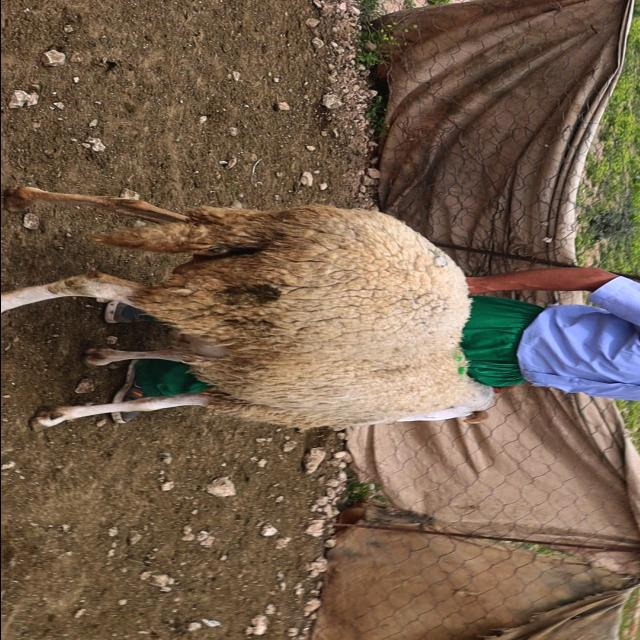Score_5: (1, 187, 493, 430)
